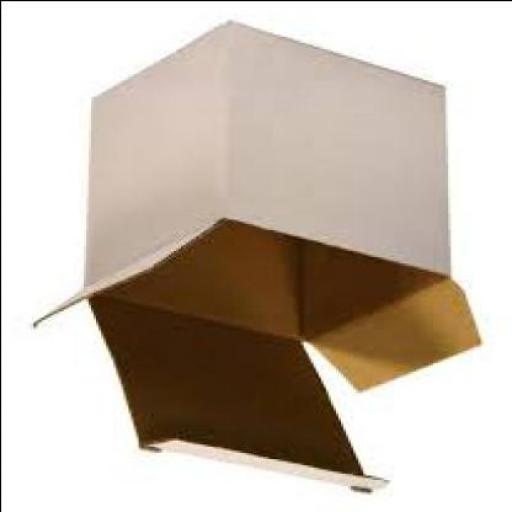cardboard: (35, 23, 482, 495)
